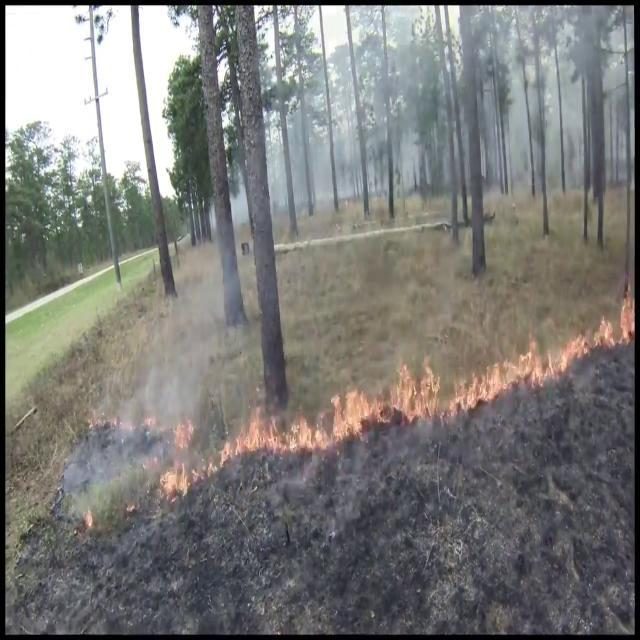Fire: (225, 355, 572, 445), (598, 274, 634, 352)
Smoke: (80, 262, 259, 512), (248, 10, 452, 209)
